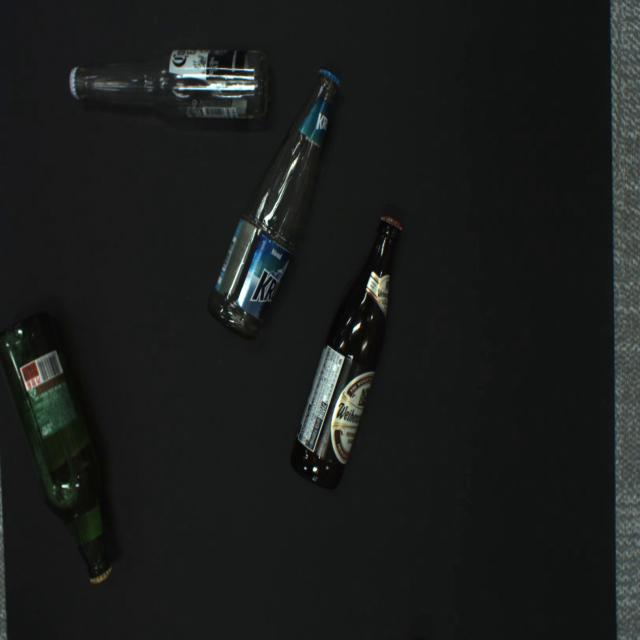beer-bottle: (207, 70, 341, 340), (0, 310, 113, 586), (291, 216, 403, 490), (69, 50, 268, 119)
